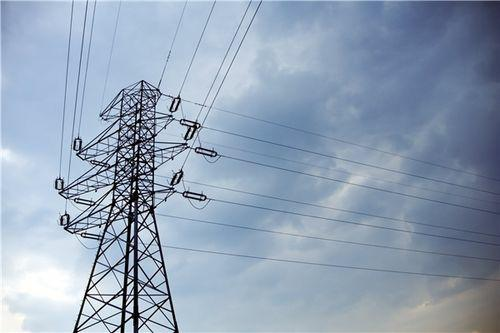power_tower: (52, 80, 216, 333)
